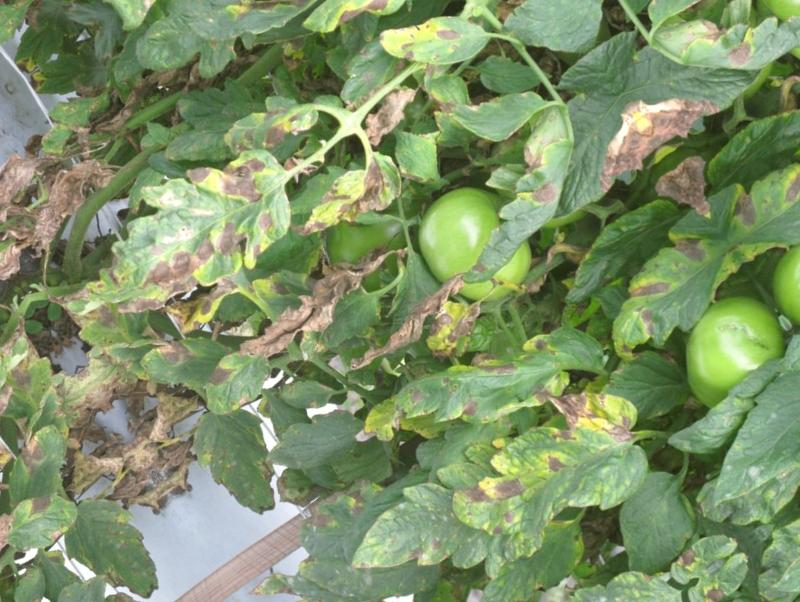Tomato Early blight leaf: (424, 362, 679, 591), (358, 282, 622, 502), (65, 133, 318, 358), (417, 104, 620, 292), (574, 209, 748, 372), (289, 132, 418, 257), (200, 78, 328, 189), (472, 540, 685, 602), (373, 0, 494, 106), (184, 338, 282, 432), (301, 0, 418, 58)
